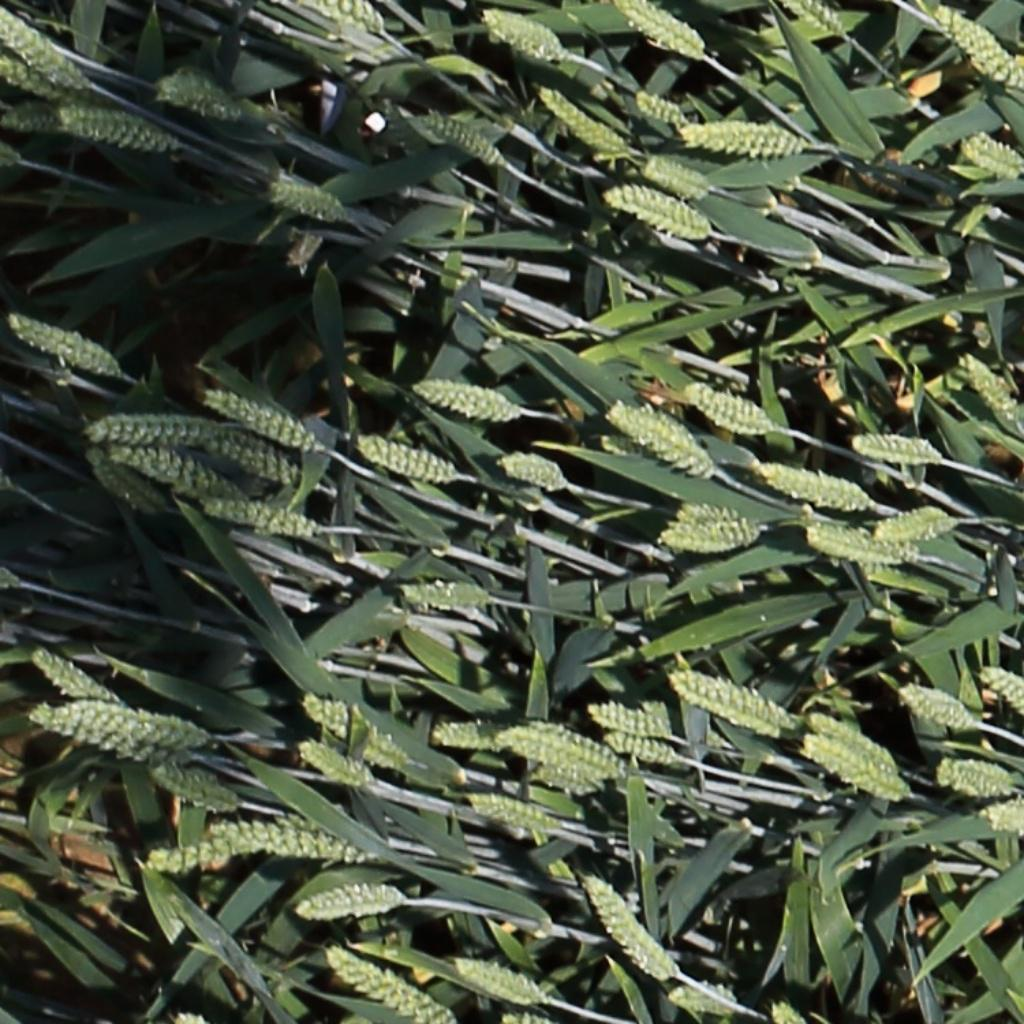0-0: (292, 686, 430, 775), (322, 946, 472, 1024), (578, 871, 673, 985), (22, 698, 226, 750), (176, 818, 382, 869), (786, 719, 919, 797), (495, 718, 623, 797), (665, 670, 811, 739), (44, 99, 196, 164), (5, 312, 131, 387), (603, 401, 718, 478), (801, 707, 913, 784), (199, 387, 322, 454), (932, 4, 1024, 91), (0, 6, 86, 91), (105, 445, 236, 499), (790, 519, 925, 571), (653, 498, 767, 558), (671, 115, 810, 164), (756, 461, 879, 516), (353, 435, 467, 490), (536, 83, 622, 154), (410, 378, 523, 428), (28, 648, 117, 709), (955, 346, 1022, 427), (54, 734, 204, 770), (481, 9, 576, 65), (290, 881, 414, 923), (603, 185, 709, 234), (453, 957, 559, 1006), (200, 498, 320, 539), (0, 55, 91, 109), (192, 434, 294, 481), (617, 1, 701, 55), (83, 446, 154, 509), (682, 383, 772, 432), (421, 109, 502, 163), (146, 767, 237, 812), (934, 754, 1019, 802), (466, 791, 562, 832), (844, 432, 952, 467), (873, 497, 959, 539), (493, 449, 575, 493), (431, 714, 513, 757), (392, 578, 497, 611), (294, 742, 367, 789), (898, 686, 974, 730), (157, 79, 237, 117), (980, 666, 1024, 734), (266, 180, 344, 218), (600, 733, 682, 768), (528, 757, 603, 794), (585, 705, 670, 737), (961, 133, 1022, 176), (978, 795, 1024, 849), (316, 0, 383, 36), (641, 157, 708, 192), (271, 231, 330, 270), (127, 845, 196, 877), (789, 0, 843, 36), (630, 88, 685, 122), (666, 989, 737, 1013), (765, 995, 801, 1024)
